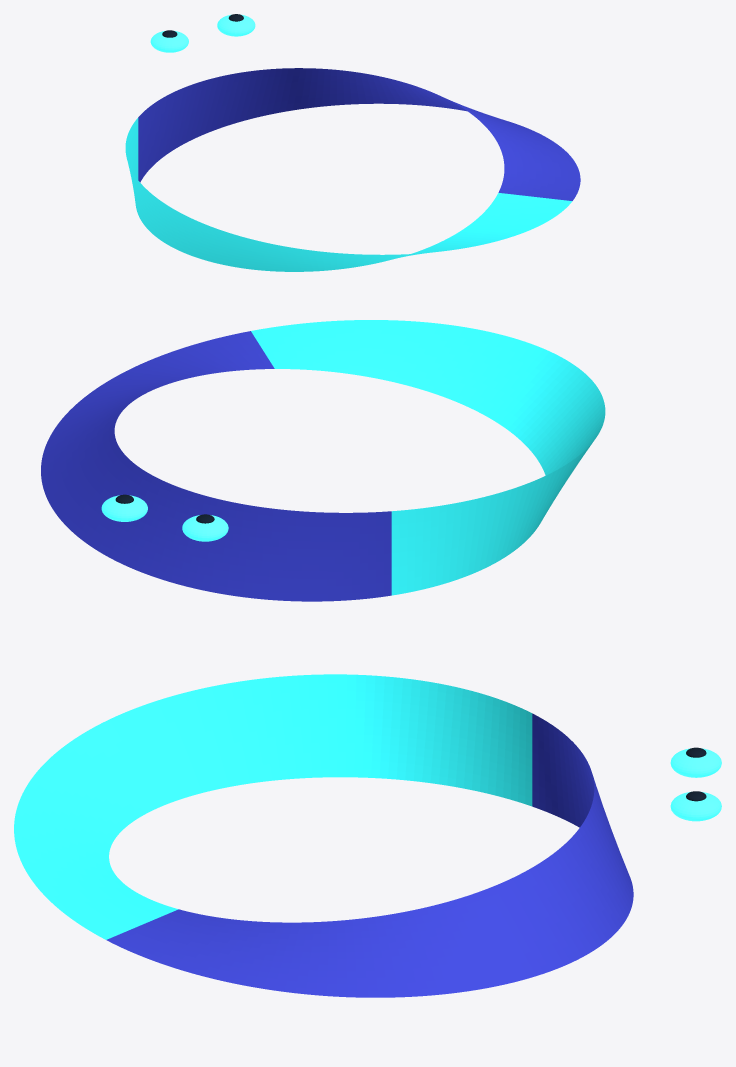
The model's file is mobius-wordmark-animated.glb.
3 views of the same model, one above another, from view 1: azimuth 30°, elevation 25°; view 2: azimuth 150°, elevation 25°; view 3: azimuth 270°, elevation 25° (orthographic). The views are drawn at different scales.
Visible parts, largest first — view 1: MobiusBody, Eye_Right, Eye_Left; view 2: MobiusBody, Eye_Left, Eye_Right; view 3: MobiusBody, Eye_Right, Eye_Left.
Boxes of the visible parts, left/top/right/bottom form: MobiusBody: left=125, top=68, right=580, bottom=271; Eye_Right: left=217, top=14, right=255, bottom=36; Eye_Left: left=150, top=30, right=188, bottom=52; MobiusBody: left=41, top=320, right=605, bottom=601; Eye_Left: left=182, top=515, right=228, bottom=541; Eye_Right: left=101, top=495, right=147, bottom=521; MobiusBody: left=14, top=674, right=633, bottom=997; Eye_Right: left=670, top=791, right=721, bottom=821; Eye_Left: left=670, top=748, right=721, bottom=777.
Bounding box in the file's own units: 6.6 × 0.856 × 4.68.
